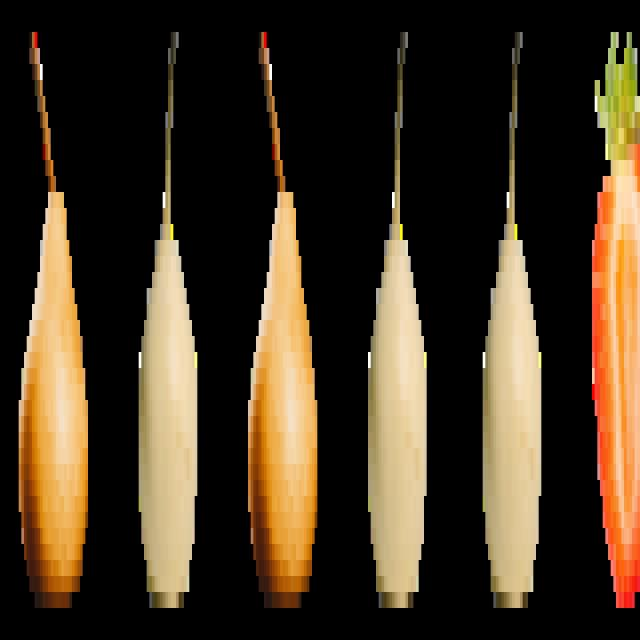pear: (15, 12, 94, 626), (243, 13, 322, 627), (362, 16, 433, 630), (134, 16, 200, 628), (480, 13, 544, 621)
